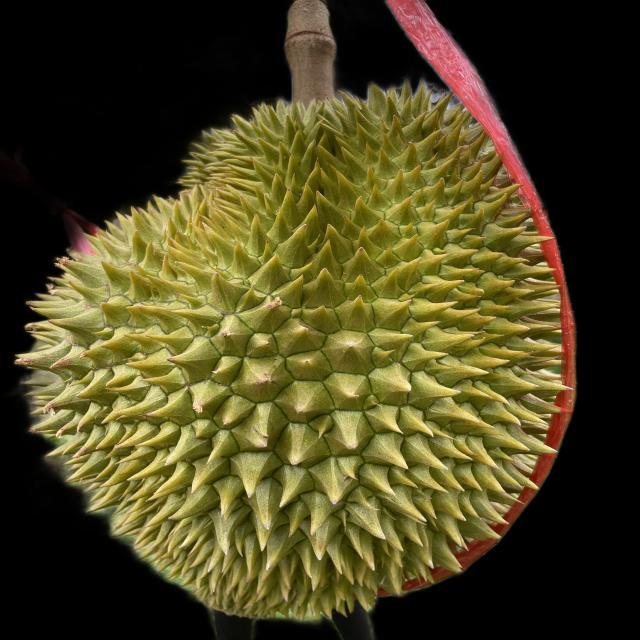immature: (25, 95, 570, 618)
